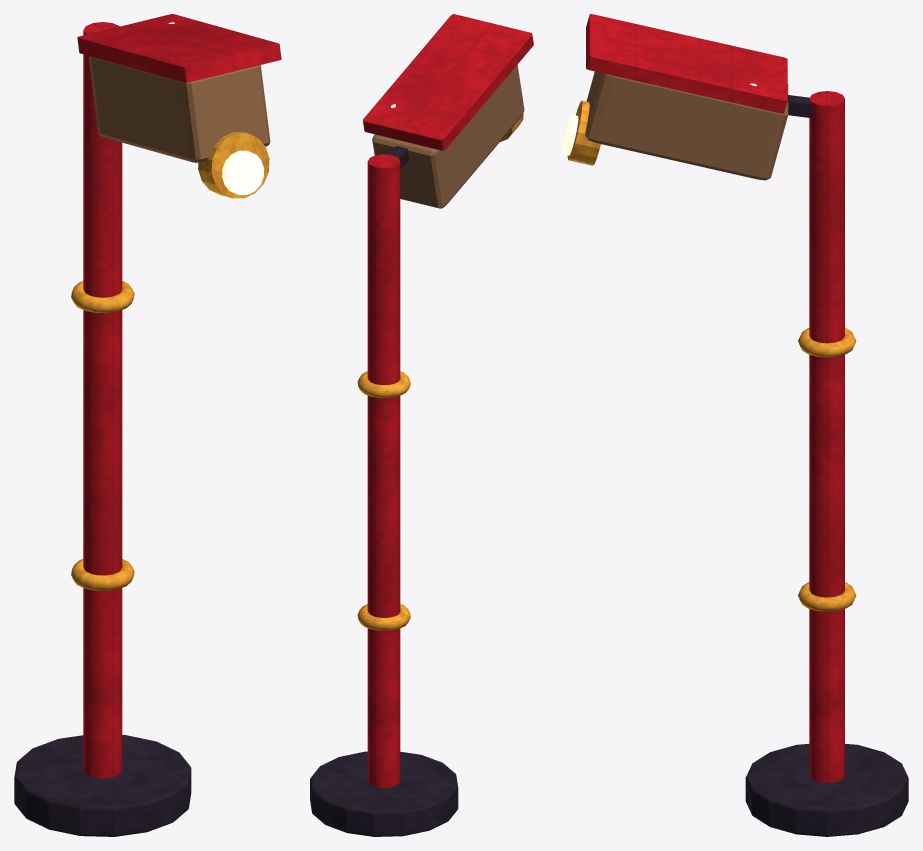
Rendered from CHO_CCTV.fbx.
3 views of the same model, side by side, from view 1: azimuth 30°, elevation 25°; view 2: azimuth 150°, elevation 25°; view 3: azimuth 270°, elevation 25° (orthographic). The views are drawn at different scales.
Parts seen in each view (by area): view 1: CHO_CCTV; view 2: CHO_CCTV; view 3: CHO_CCTV.
Boxes of the visible parts, box(x1,y1,x2,y2) form: CHO_CCTV: box(14, 14, 281, 836); CHO_CCTV: box(310, 14, 533, 836); CHO_CCTV: box(562, 14, 908, 836).
Bounding box in the file's own units: 0.64 × 3.32 × 1.36.
